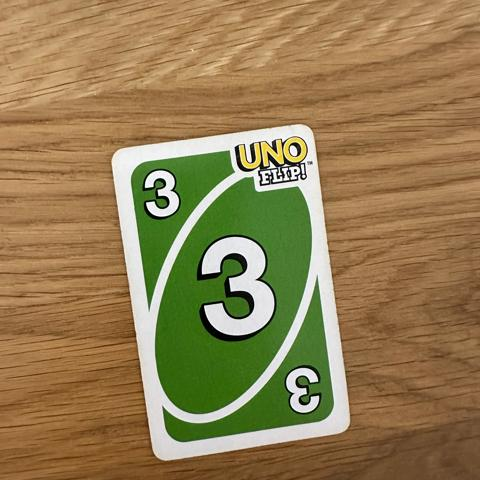lgreen-3: (127, 157, 199, 227)
